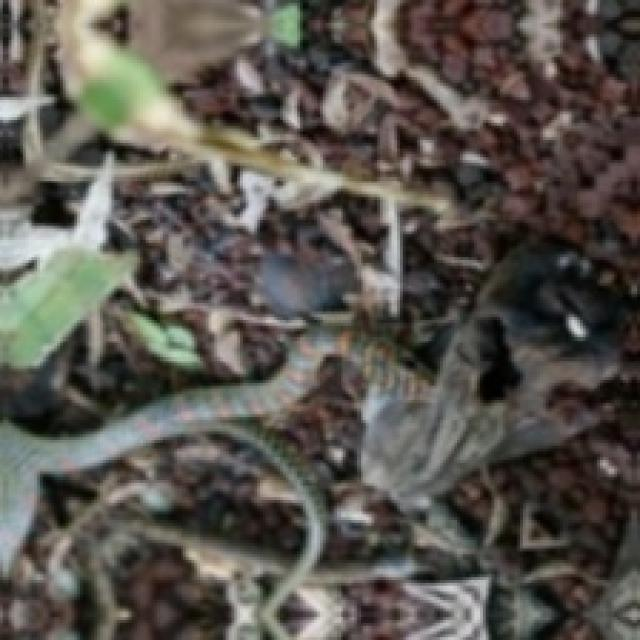paradise tree snake: (0, 324, 430, 640)
